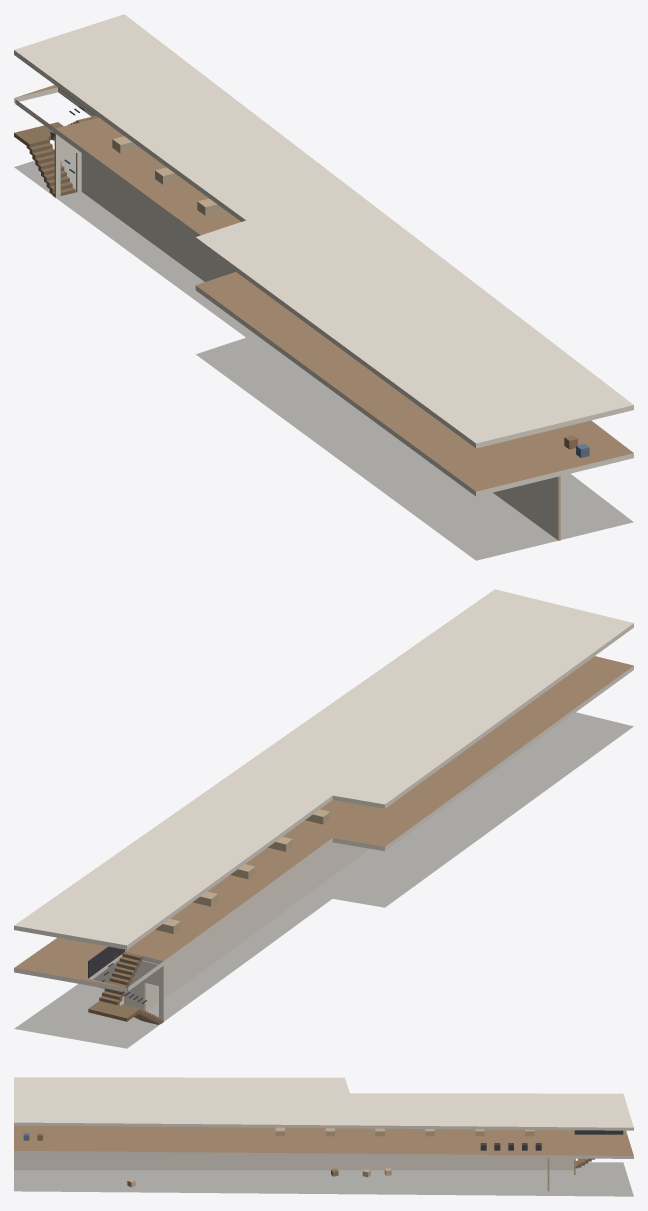
File: interior.glb
3 views of the same model, one above another, from view 1: azimuth 30°, elevation 25°; view 2: azimuth 150°, elevation 25°; view 3: azimuth 270°, elevation 25° (orthographic). The views are drawn at different scales.
Visible parts, largest first — view 1: slabs, partitions, stair, coarse-s1; view 2: slabs, partitions, stair, coarse-s1; view 3: slabs, partitions, coarse-s1, stair, coarse-s0.
Part boxes in pixels (box(x1,y1,x2,y2)): slabs: box(14, 14, 633, 560); partitions: box(54, 133, 560, 540); stair: box(14, 87, 98, 197); coarse-s1: box(112, 136, 589, 457); slabs: box(14, 589, 633, 1048); partitions: box(93, 842, 369, 1022); stair: box(88, 946, 163, 1024); coarse-s1: box(155, 809, 330, 933); slabs: box(14, 1077, 633, 1196); partitions: box(14, 1153, 575, 1191); coarse-s1: box(23, 1127, 541, 1150); stair: box(574, 1130, 623, 1168); coarse-s0: box(127, 1168, 391, 1187).
Bounding box in the file's own units: 9.57 × 6.11 × 49.7.
